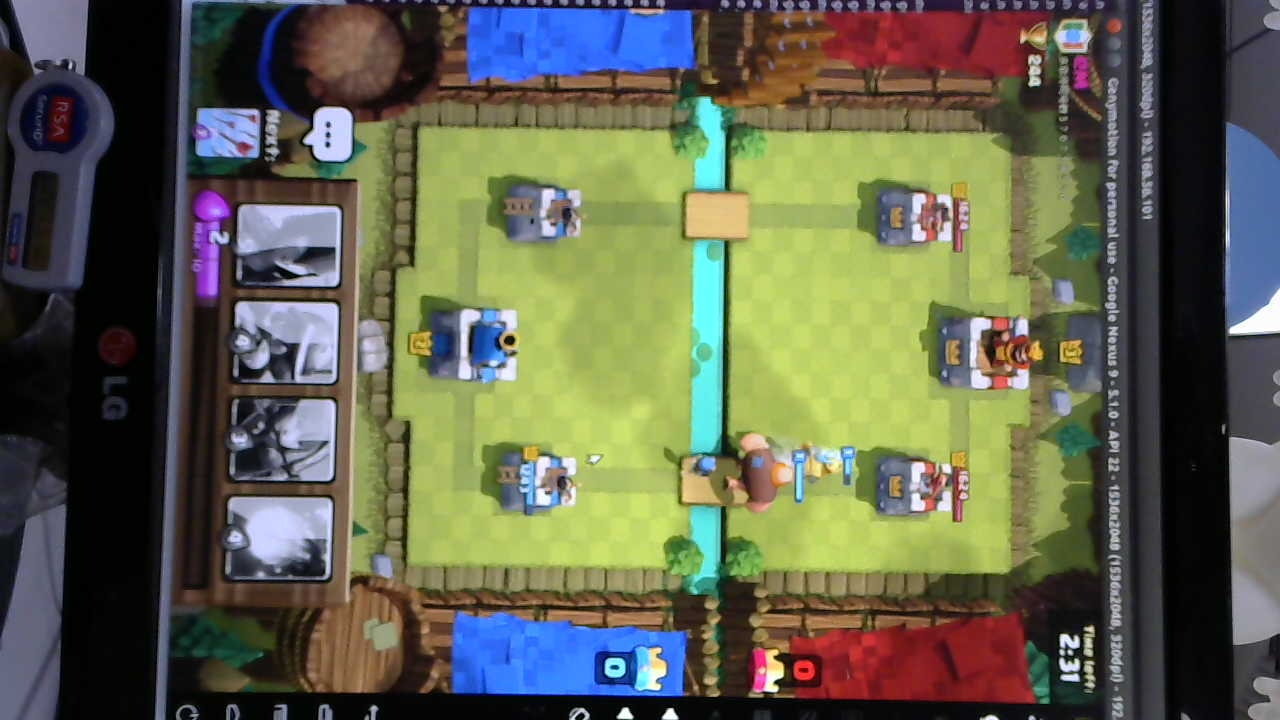arena: (500, 447, 580, 513), (507, 181, 582, 247)
bomb: (687, 446, 724, 481)
earena: (871, 454, 952, 517), (875, 186, 955, 249)
eking: (931, 311, 1034, 392)
giant: (728, 428, 790, 512)
king: (439, 302, 522, 387)
prince: (792, 437, 848, 487)
